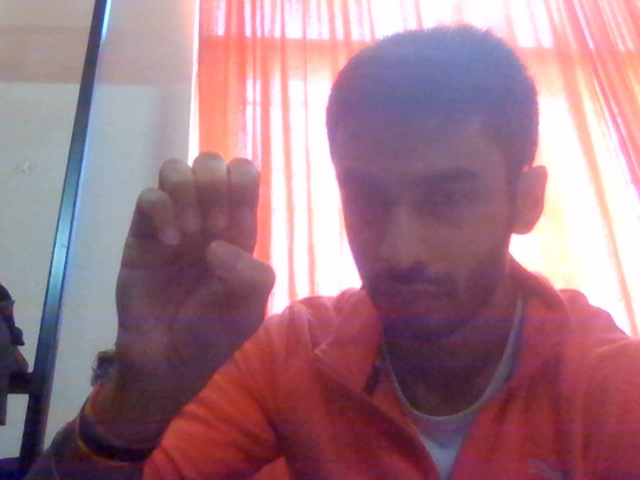E: (91, 112, 296, 441)
